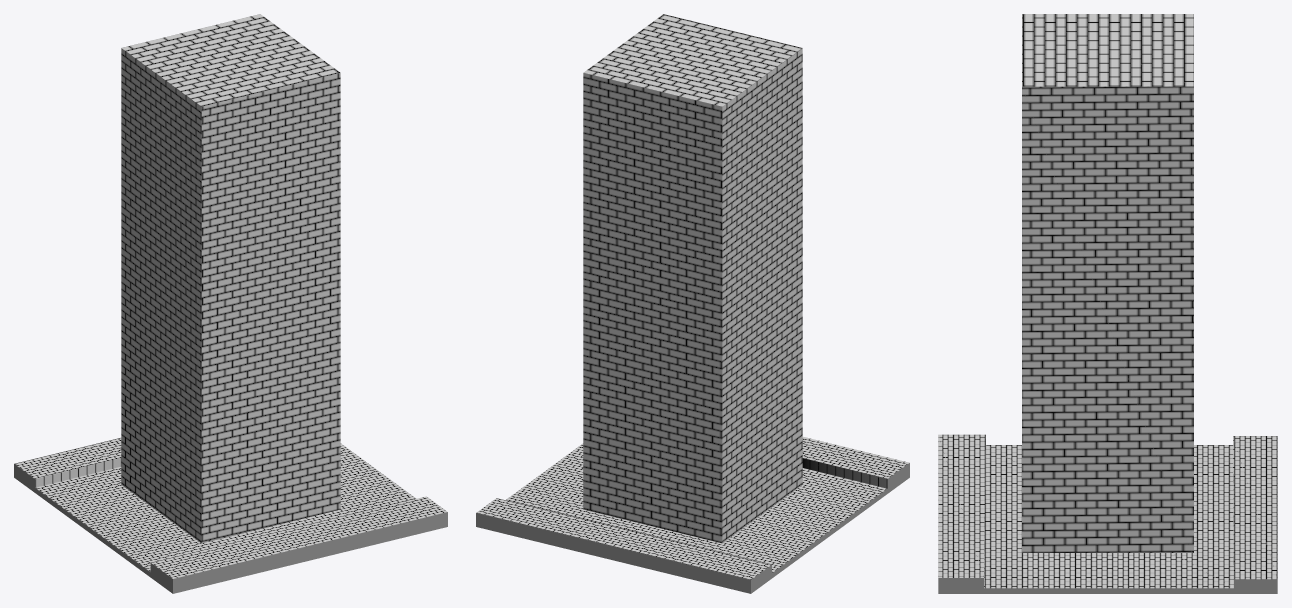
File: Block.fbx
3 views of the same model, side by side, from view 1: azimuth 30°, elevation 25°; view 2: azimuth 150°, elevation 25°; view 3: azimuth 270°, elevation 25° (orthographic). The views are drawn at different scales.
Parts seen in each view (by area): view 1: Cube; view 2: Cube; view 3: Cube.
Boxes of the visible parts, <box> form: Cube: <box>14,14,447,593</box>; Cube: <box>476,14,909,593</box>; Cube: <box>938,14,1277,593</box>.
Size of the model in its own units: 3.95 by 6.07 by 3.95.
Materials: 1 (1 with a texture image).
